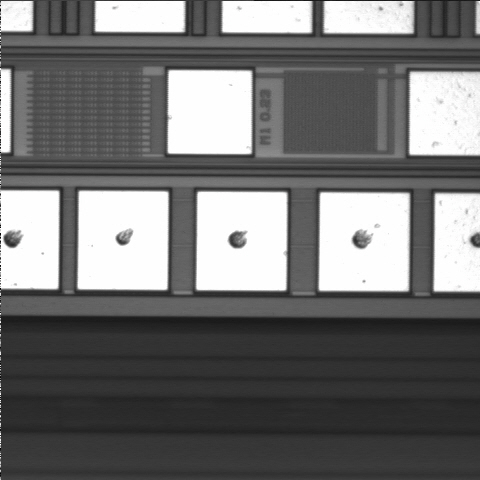pad: (196, 192, 287, 290), (78, 191, 168, 290), (319, 193, 409, 291), (168, 70, 252, 154)
